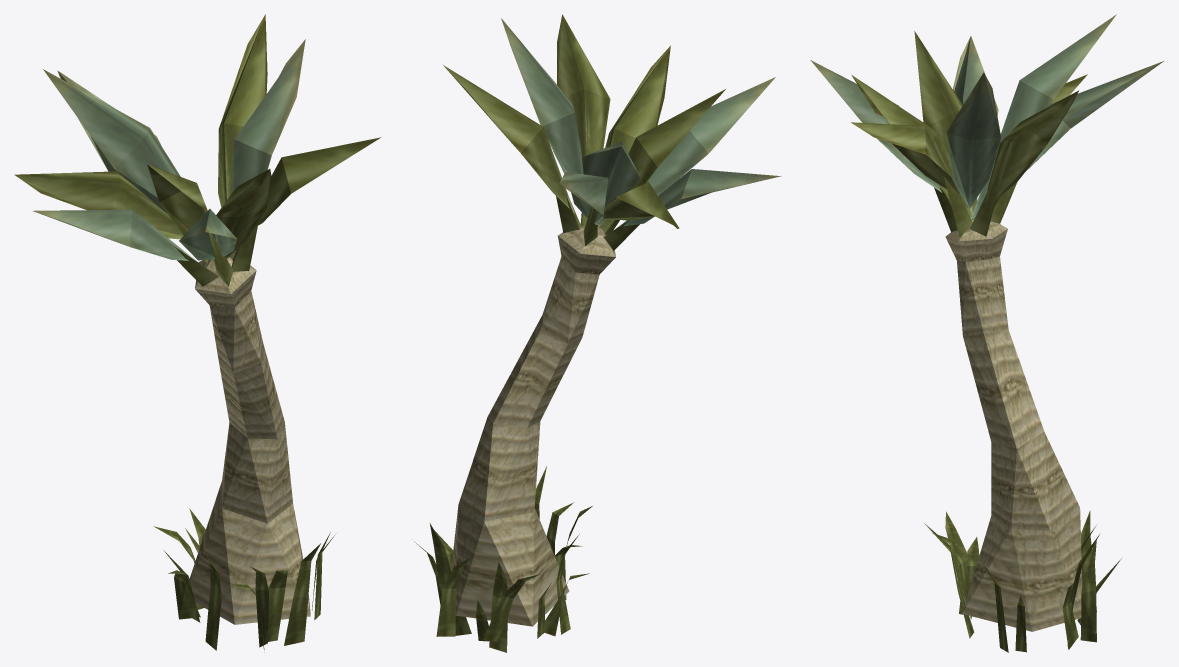
File: C2SNPALMD.obj
3 renders of one model, left to right at view 1: azimuth 30°, elevation 25°; view 2: azimuth 150°, elevation 25°; view 3: azimuth 270°, elevation 25°, orthographic. The views are drawn at different scales.
Visible parts, largest first — view 1: Node 0; view 2: Node 0; view 3: Node 0.
Boxes of the visible parts, x1,y1,x2,y2 form: Node 0: (14, 14, 380, 652); Node 0: (414, 14, 781, 652); Node 0: (810, 14, 1163, 652).
Size of the model in its own units: 5.45 by 9.44 by 5.27.
Materials: 1 (1 with a texture image).
